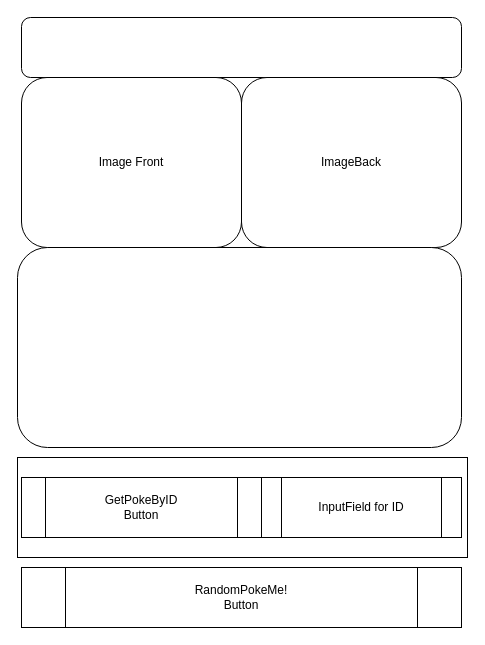
Some shapes in this 485 by 645 pixel diagram are drawn without their labels. Each missing label, with the box of its shape:
Name of PokeMon: (20, 16, 462, 78)
Stats Table: (16, 246, 462, 448)
